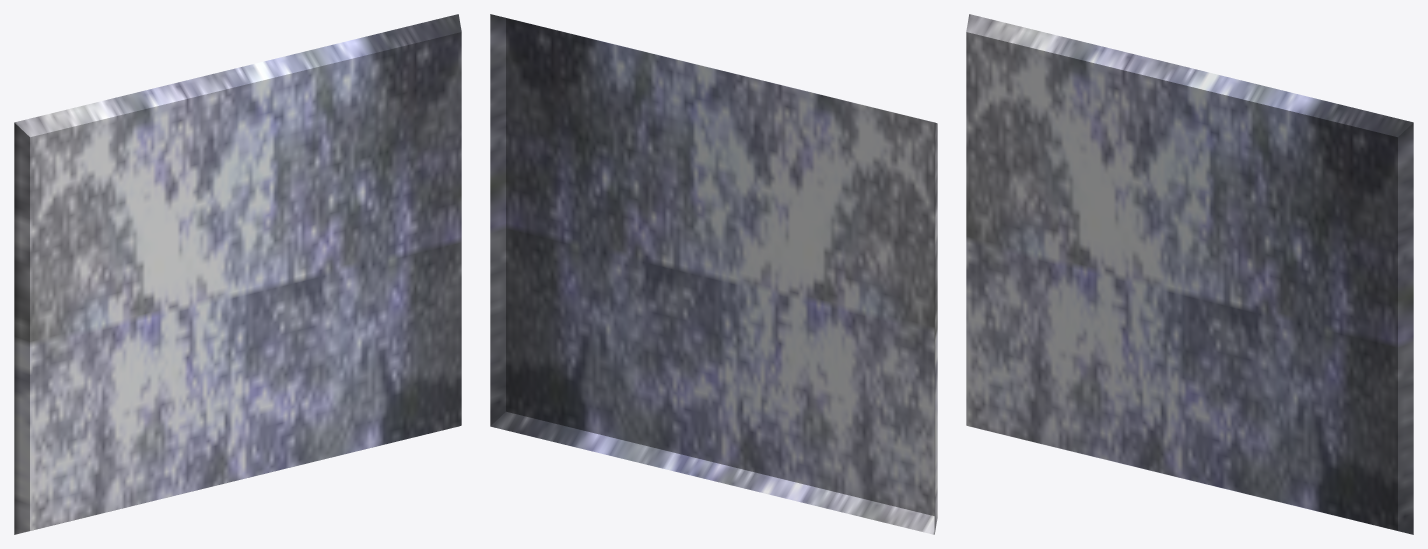
3 renders of one model, left to right at view 1: azimuth 30°, elevation 25°; view 2: azimuth 150°, elevation 25°; view 3: azimuth 330°, elevation 25°, orthographic.
Parts seen in each view (by area): view 1: model_Object16; view 2: model_Object16; view 3: model_Object16.
Boxes of the visible parts, bbox=[...] form: model_Object16: bbox=[14, 14, 461, 534]; model_Object16: bbox=[490, 14, 937, 534]; model_Object16: bbox=[966, 14, 1413, 534].
Size of the model in its own units: 1.7 by 1.51 by 0.0629.
1 material, 1 textured.
